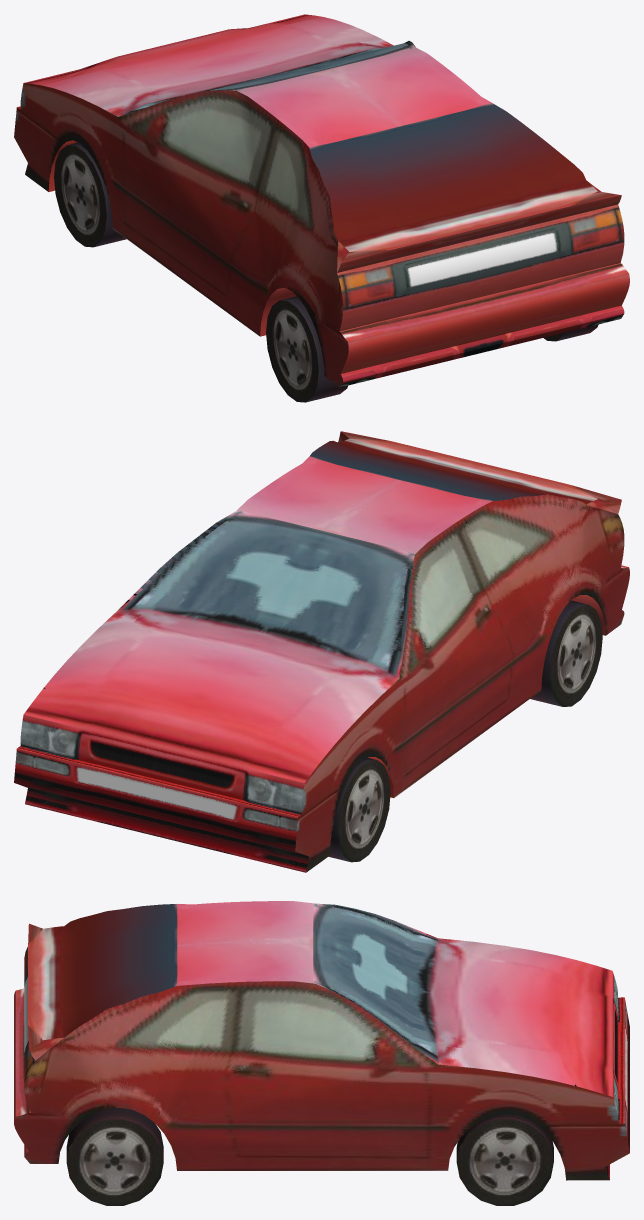
Rendered from corrado.glb.
3 renders of one model, top to bottom at view 1: azimuth 30°, elevation 25°; view 2: azimuth 150°, elevation 25°; view 3: azimuth 270°, elevation 25°, orthographic. The views are drawn at different scales.
Parts seen in each view (by area): view 1: Body, WheelRL, WheelFL; view 2: Body, WheelRL, WheelFL; view 3: Body, WheelRR, WheelFR.
Part boxes in pixels (<box>): Body: <box>14,14,629,387</box>; WheelRL: <box>266,296,348,402</box>; WheelFL: <box>54,142,126,247</box>; Body: <box>14,431,629,872</box>; WheelRL: <box>530,600,602,706</box>; WheelFL: <box>328,757,390,862</box>; Body: <box>14,901,629,1180</box>; WheelRR: <box>66,1107,163,1205</box>; WheelFR: <box>456,1114,553,1205</box>.
Bounding box in the file's own units: 6.78 × 4.96 × 13.8.
2 materials, 2 textured.
